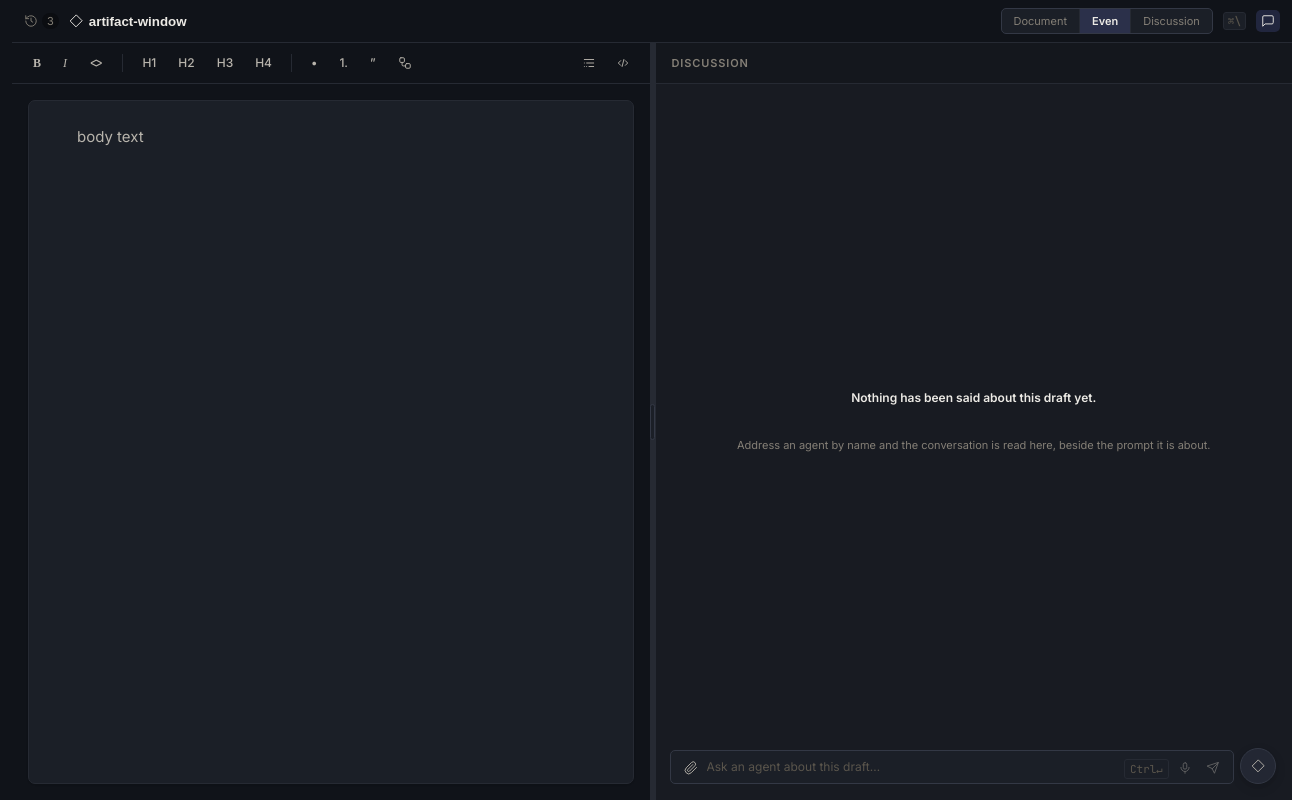
Test case: draft document scroll memory (NAW-FR-IHDU) › NAW-FR-IHDU, NAW-FR-10: returning from a version shows the live prompt where the author left it
The width and height of the screenshot is (1292, 800).
(page scrolled)
Expected: the element with class "editor" is shown, [28,100,634,784]
Click the button named "Show History". click: (41, 21)
box: [24,13,59,29]
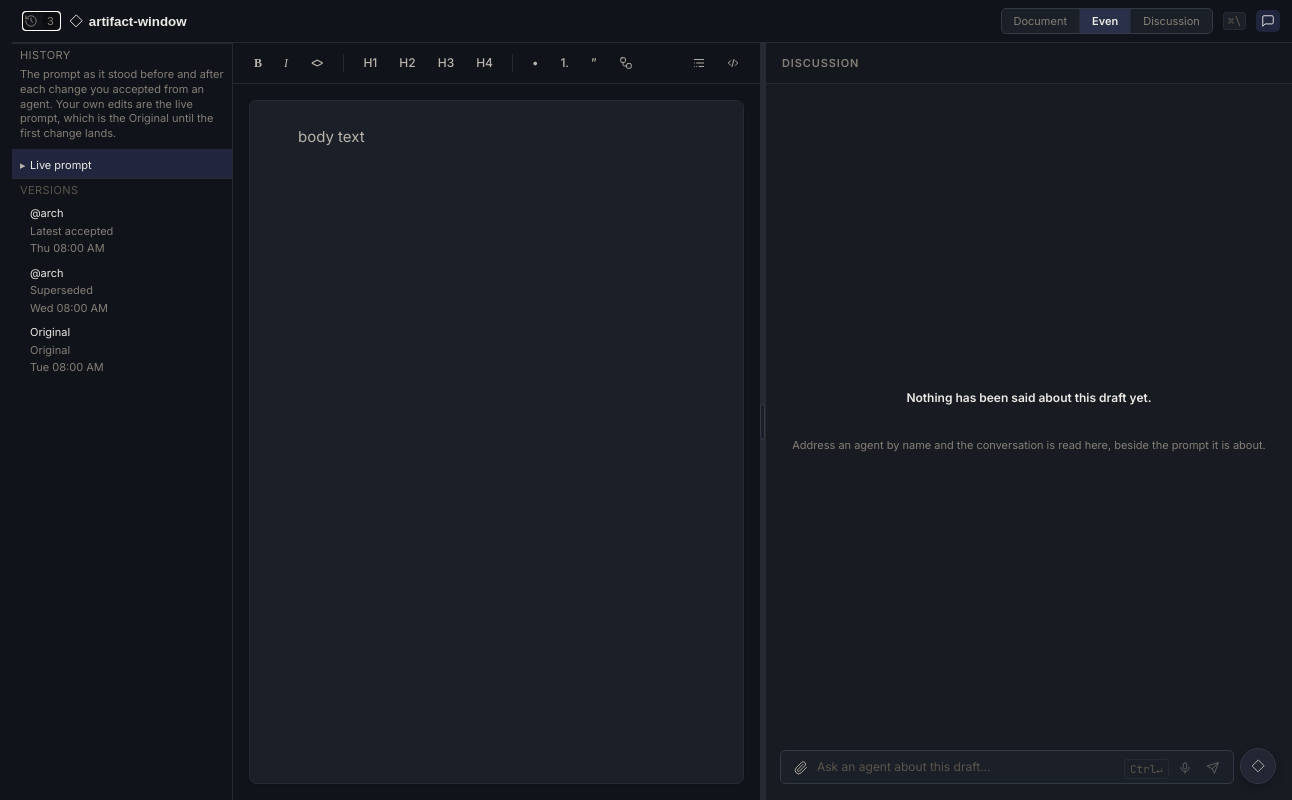
Click the button with class "draft-version" that starts with "@arch". click: (122, 231)
box: [12,201,232,261]
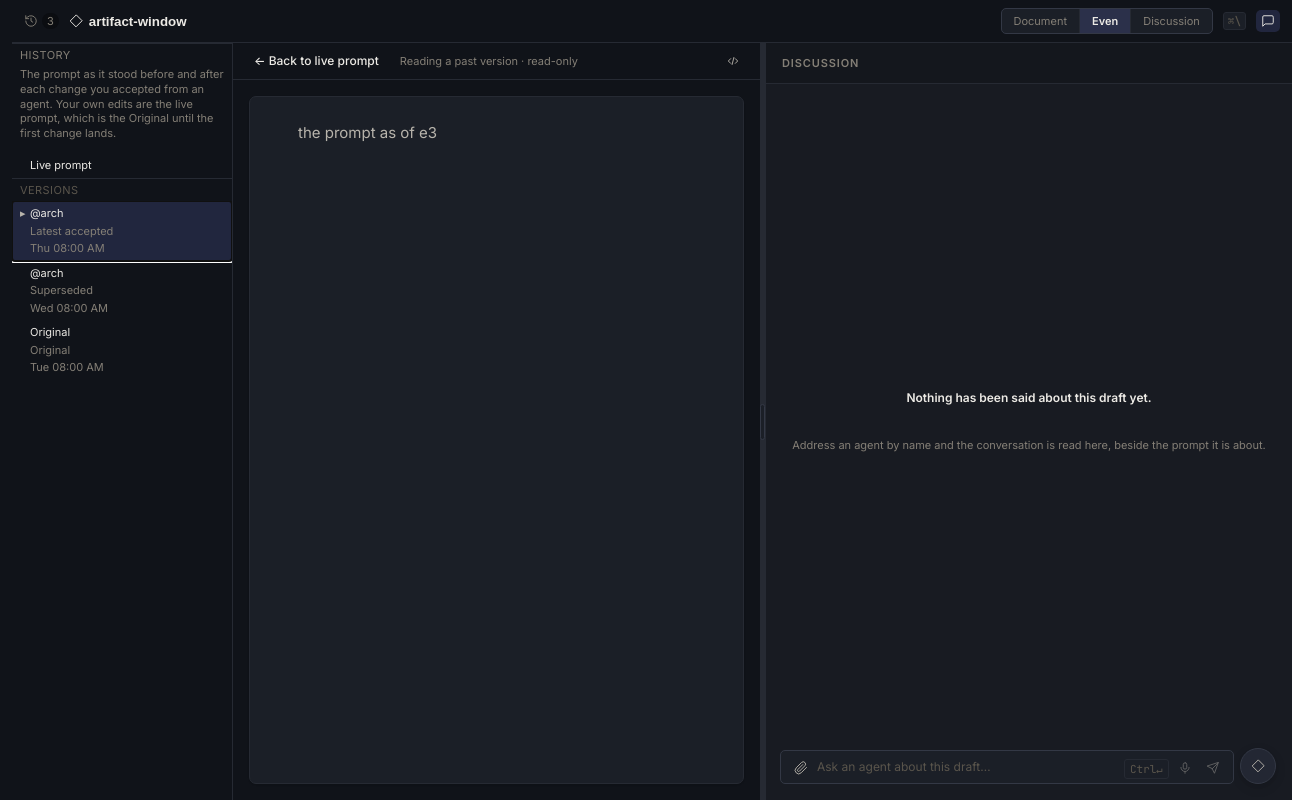
Result: the element with test id "draft-version-reading" is shown at [298,123,437,142]
Click the button with class "draft-version--live". click: (122, 163)
box: [12,149,232,178]
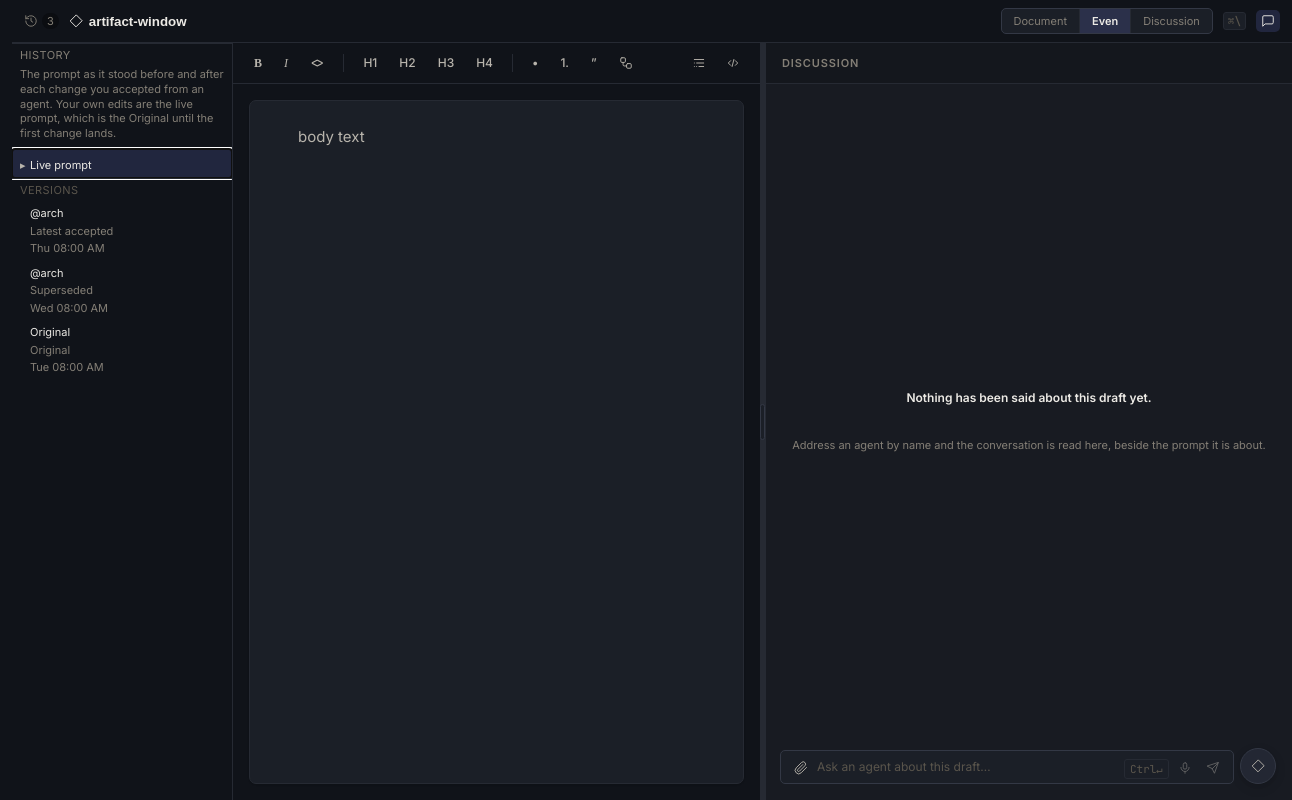
Expected: the element with class "editor" is shown, [249,100,744,784]
Result: the element with test id "draft-version-reading" is gone
